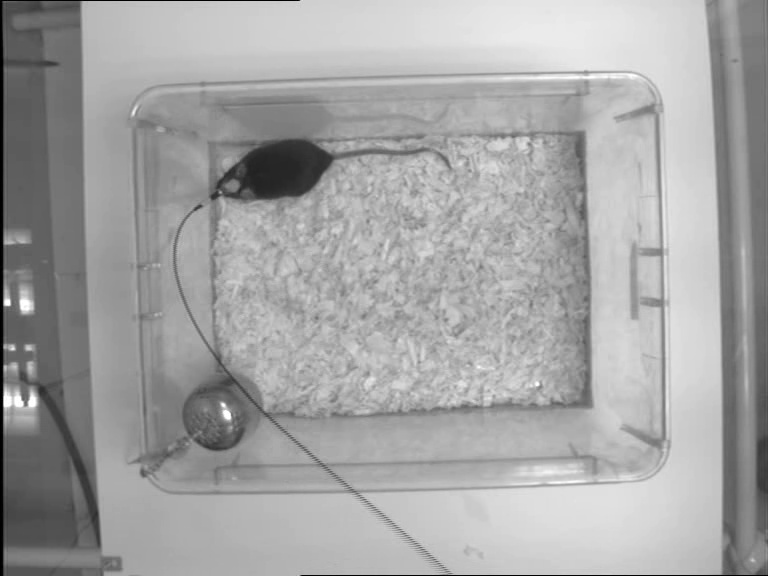mice: (208, 139, 452, 204)
